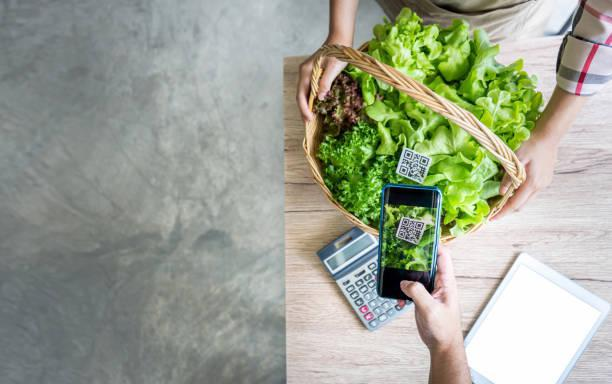Finder pattern: (397, 164, 411, 178), (417, 156, 432, 168), (396, 229, 409, 241), (415, 221, 426, 232), (404, 150, 414, 161), (401, 218, 410, 227)
